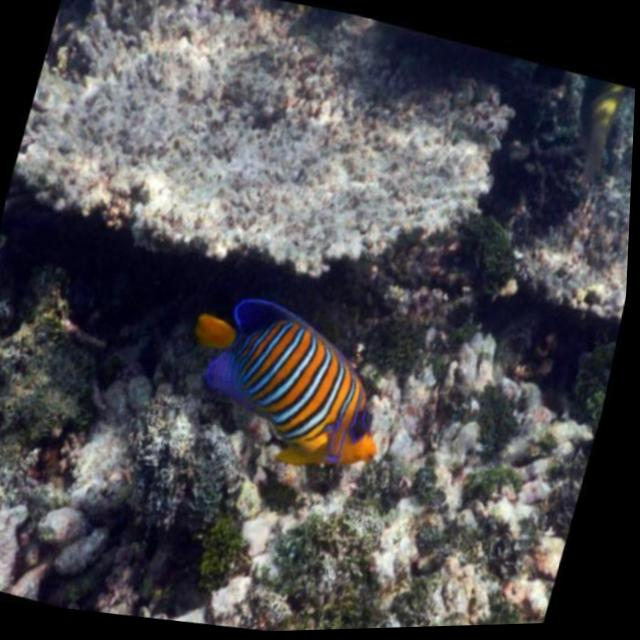Dead Coral: (16, 0, 542, 356)
